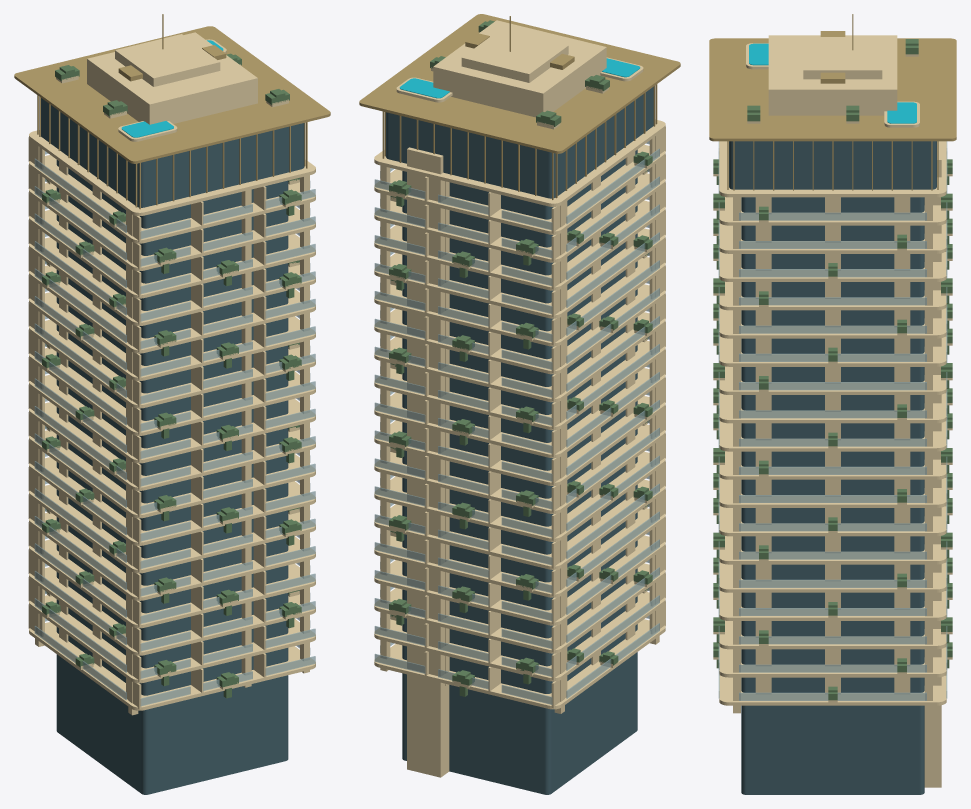
The model's file is ora-east.glb.
3 renders of one model, left to right at view 1: azimuth 30°, elevation 25°; view 2: azimuth 150°, elevation 25°; view 3: azimuth 270°, elevation 25°, orthographic. The views are drawn at different scales.
Visible parts, largest first — view 1: ORA East Tower; view 2: ORA East Tower; view 3: ORA East Tower.
Part boxes in pixels (left/top/right/bottom): ORA East Tower: left=14, top=14, right=330, bottom=794; ORA East Tower: left=359, top=14, right=680, bottom=794; ORA East Tower: left=709, top=14, right=956, bottom=794.
Size of the model in its own units: 24 by 83 by 25.
